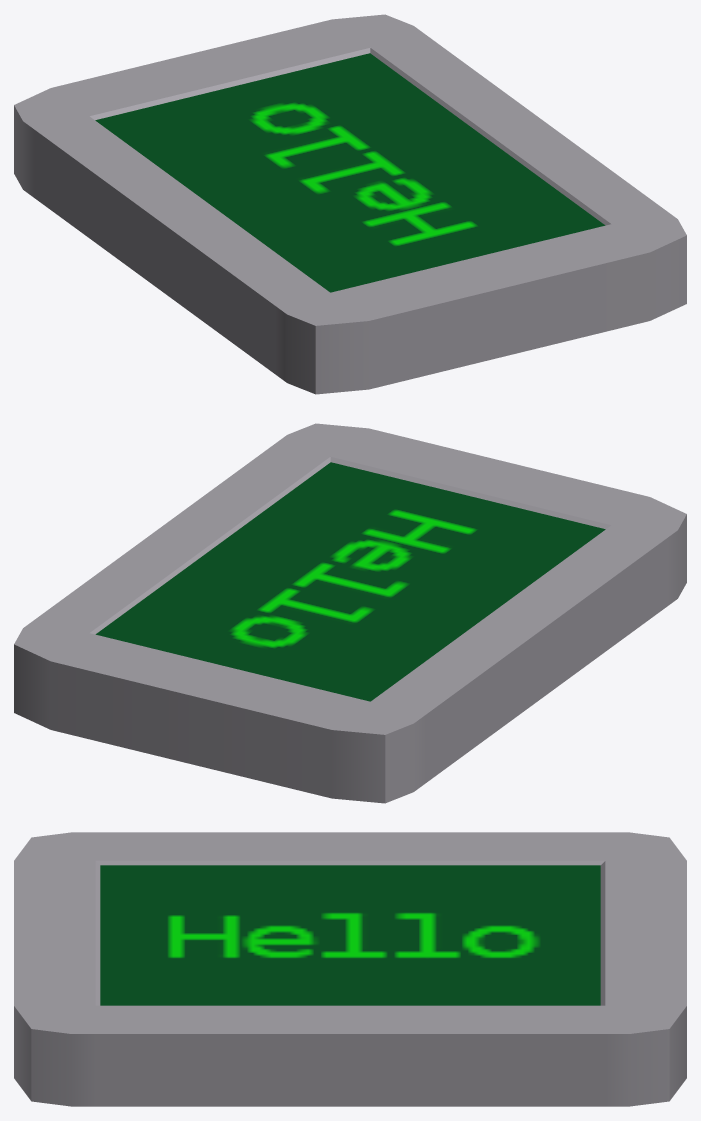
Rendered from Monochrome display.fbx.
3 renders of one model, top to bottom at view 1: azimuth 30°, elevation 25°; view 2: azimuth 150°, elevation 25°; view 3: azimuth 270°, elevation 25°, orthographic. The views are drawn at different scales.
Parts seen in each view (by area): view 1: monochrome_display; view 2: monochrome_display; view 3: monochrome_display.
Part boxes in pixels (x1,y1,x2,y2): monochrome_display: [14, 14, 686, 394]; monochrome_display: [14, 423, 686, 803]; monochrome_display: [14, 832, 686, 1106].
Bounding box in the file's own units: 1.07 × 0.1789 × 1.5.
